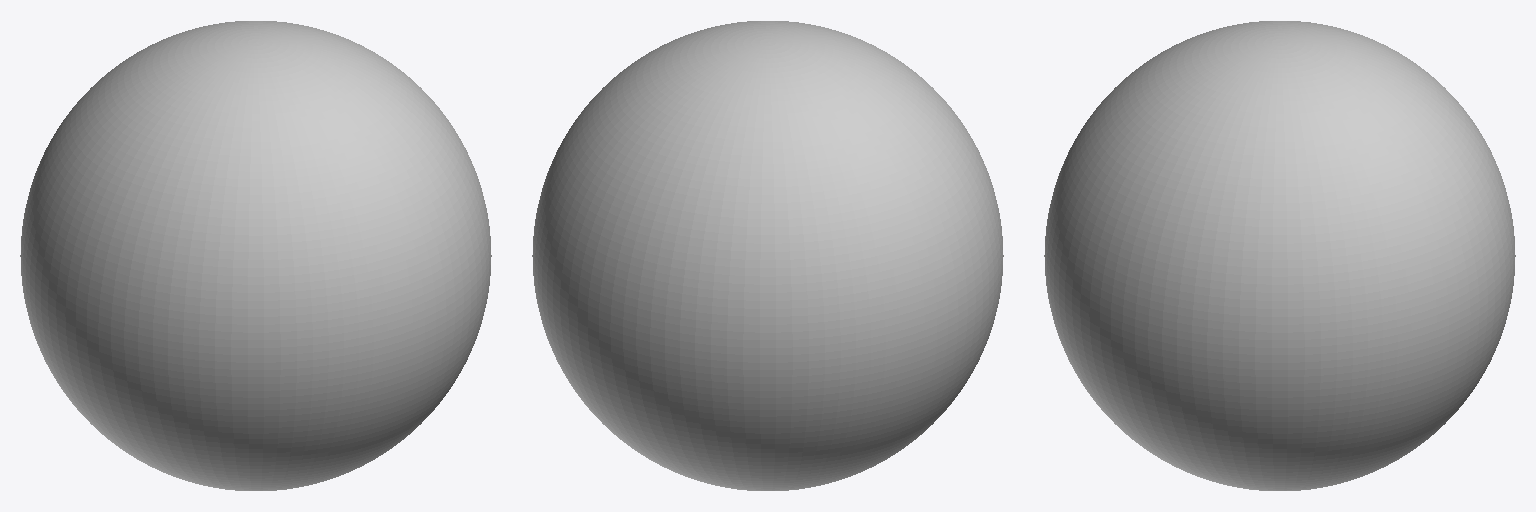
Rendered from hollow-sphere.obj.
The picture shows the model from 3 angles: view 1: azimuth 30°, elevation 25°; view 2: azimuth 150°, elevation 25°; view 3: azimuth 270°, elevation 25°; orthographic projection.
Parts seen in each view (by area): view 1: Sphere; view 2: Sphere; view 3: Sphere.
Boxes of the visible parts, <box> form: Sphere: <box>20,21,491,490</box>; Sphere: <box>532,21,1003,490</box>; Sphere: <box>1044,21,1515,490</box>.
Bounding box in the file's own units: 2.62 × 2.62 × 2.62.